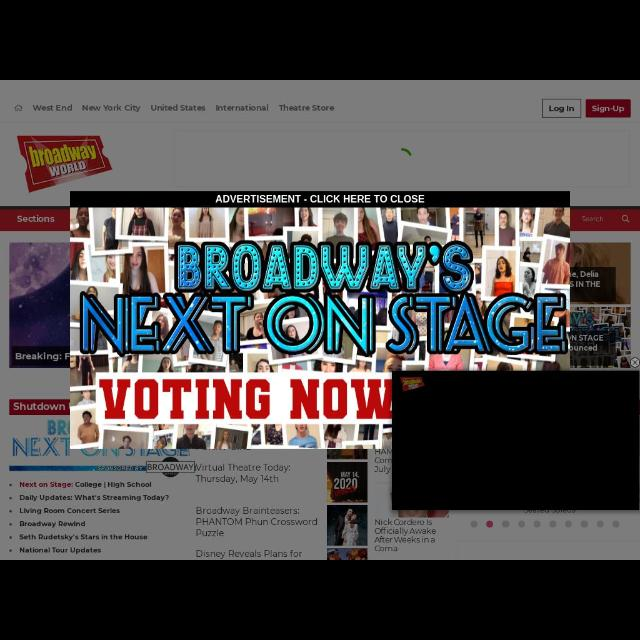icon: (146, 457, 194, 477), (622, 214, 630, 222), (15, 105, 22, 111)
iframe: (393, 371, 639, 509)
image: (70, 207, 570, 448), (18, 136, 112, 192), (327, 462, 367, 502), (328, 505, 367, 545)
pageindicator: (471, 520, 619, 528)
text: (216, 194, 424, 202), (9, 534, 147, 542), (196, 506, 300, 516), (196, 518, 318, 526), (9, 495, 169, 501), (9, 508, 119, 516), (9, 482, 151, 488), (196, 550, 302, 558), (196, 463, 290, 472), (195, 475, 279, 485), (10, 548, 100, 554), (376, 527, 436, 535), (82, 104, 140, 112), (16, 352, 62, 362), (9, 522, 85, 528), (376, 518, 432, 526), (216, 103, 268, 111), (15, 402, 66, 410), (151, 105, 205, 112), (374, 537, 436, 543), (279, 104, 335, 110), (32, 105, 72, 112), (592, 104, 624, 112), (18, 215, 54, 222), (196, 529, 224, 537), (549, 106, 573, 112), (376, 546, 398, 552), (582, 216, 604, 222)
textbutton: (586, 100, 630, 118), (542, 99, 582, 118)
toolbar: (1, 80, 640, 122)
